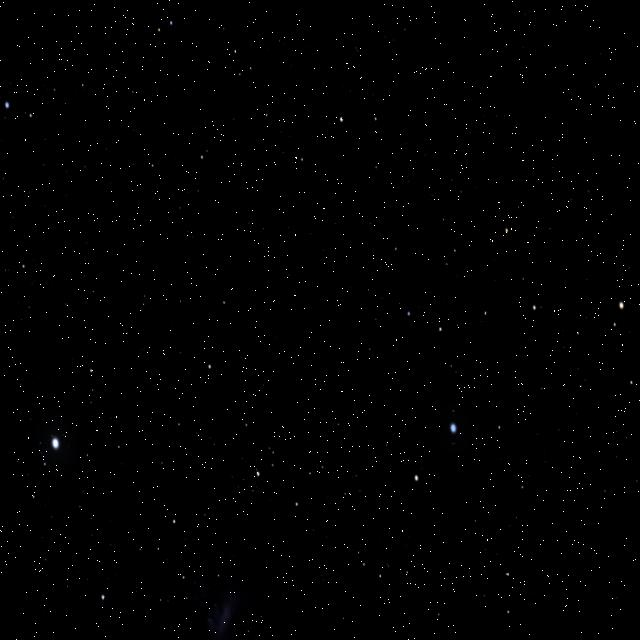Horologium: (170, 128, 392, 459)
